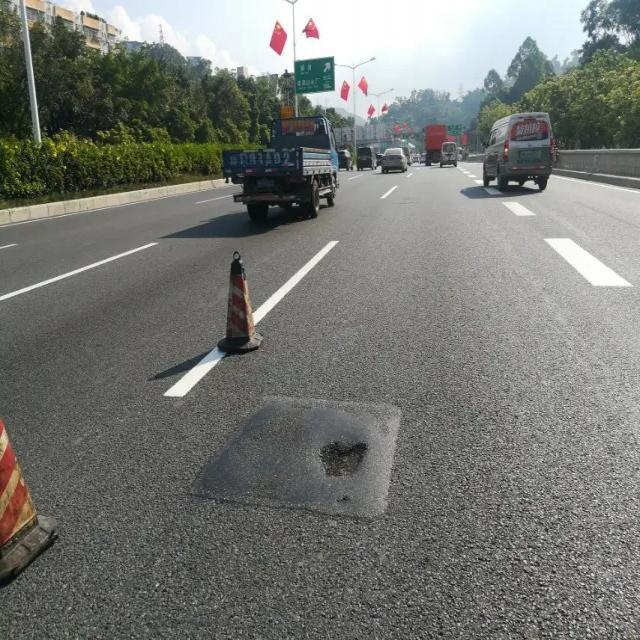pothole: (310, 431, 371, 486)
